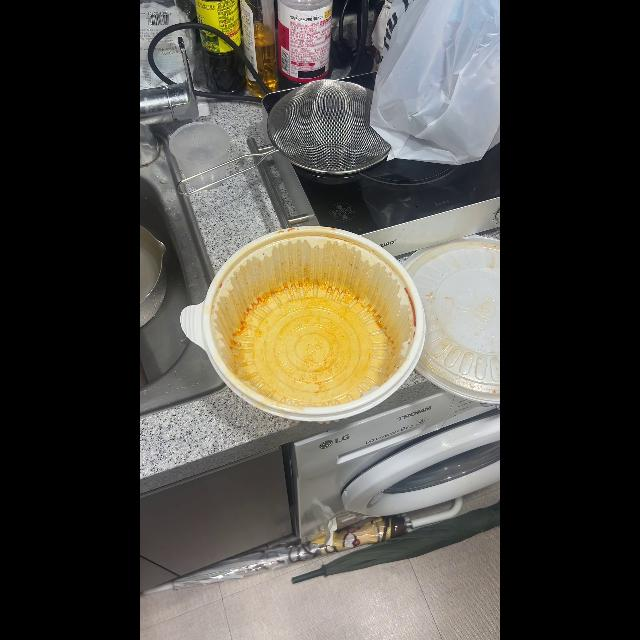dirty: (214, 249, 420, 419)
